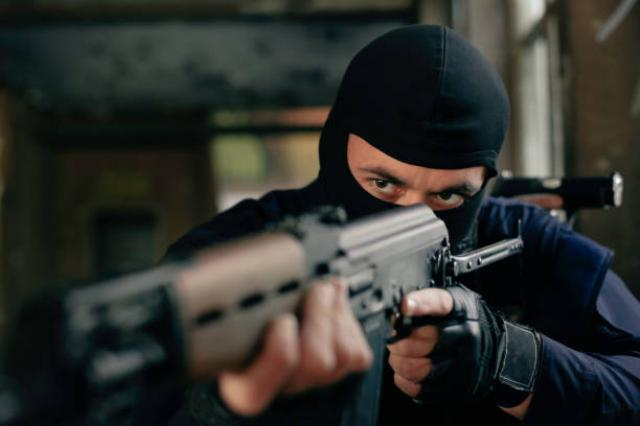other: (197, 27, 619, 419)
